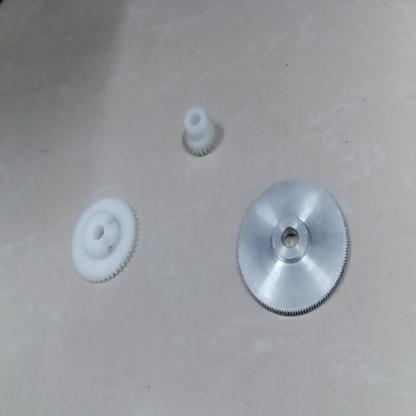FOD: (235, 175, 350, 321), (70, 195, 137, 283), (180, 108, 218, 160)
